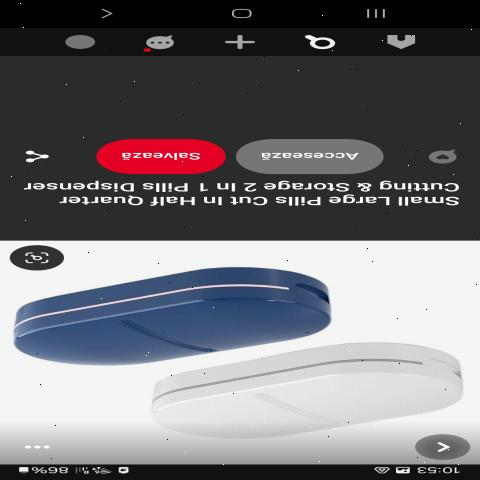Pill: (125, 342, 464, 463)
